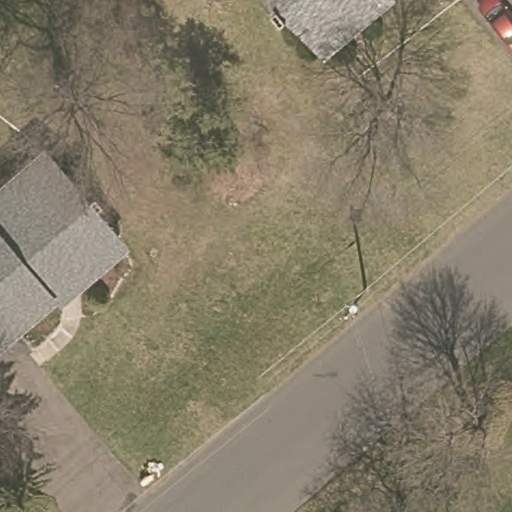DT: (338, 294, 367, 321)
